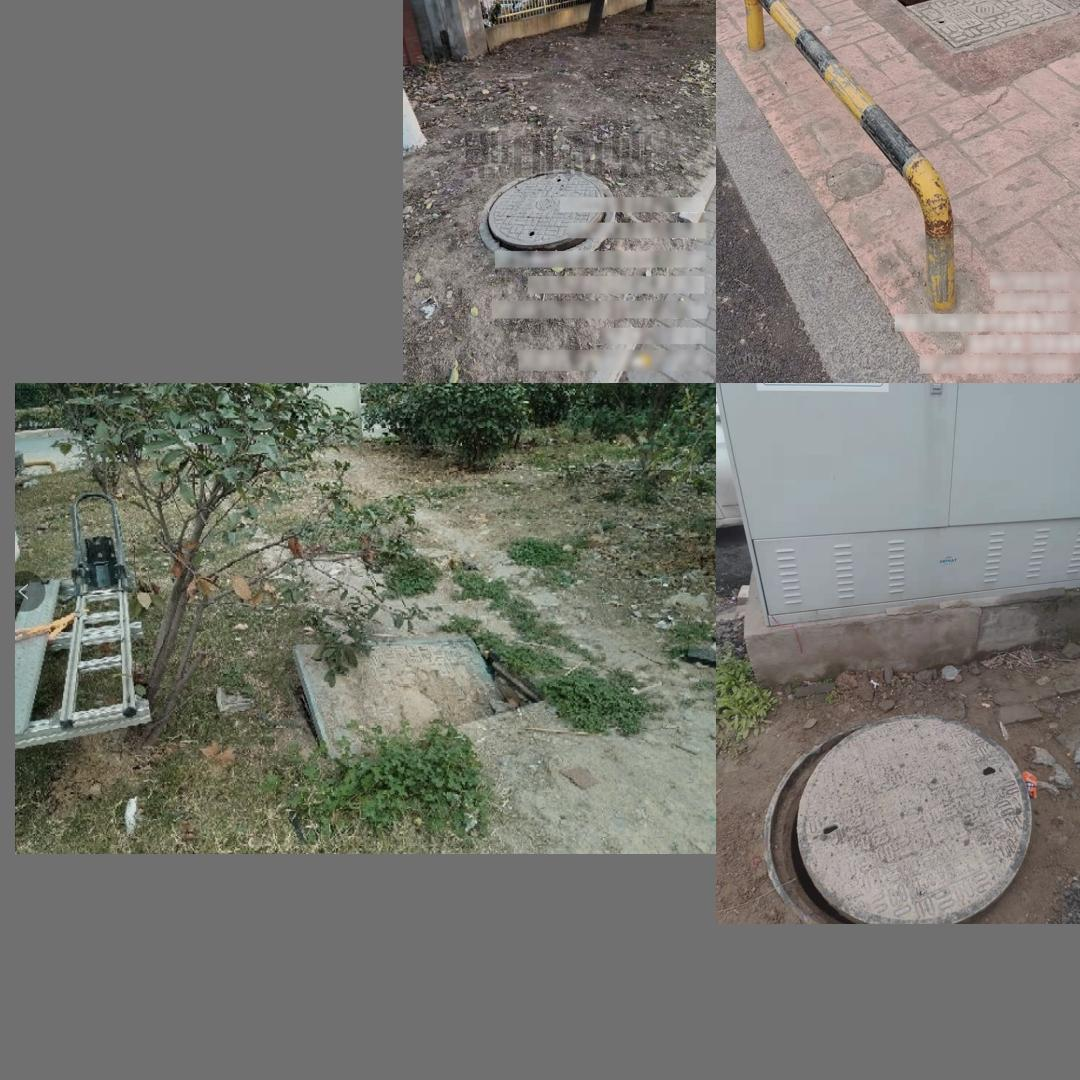uncovered: (735, 708, 1033, 917), (276, 617, 566, 777), (479, 168, 614, 266), (862, 0, 1073, 59)
